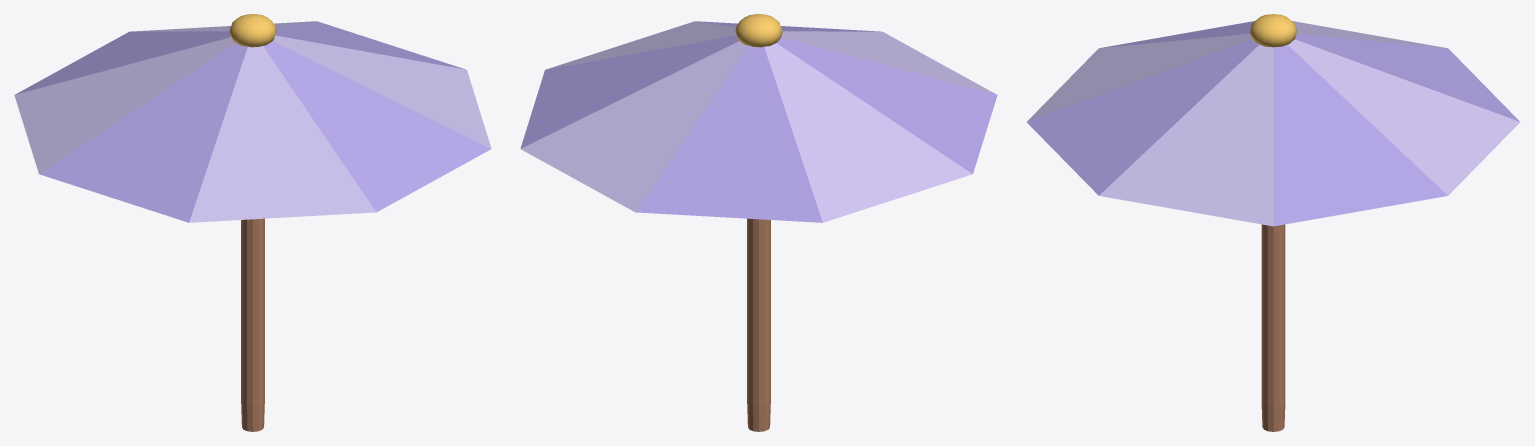
File: protect_umbrella.glb
The picture shows the model from 3 angles, left to right: view 1: azimuth 30°, elevation 25°; view 2: azimuth 150°, elevation 25°; view 3: azimuth 270°, elevation 25°; orthographic projection.
Visible parts, largest first — view 1: canopy, model; view 2: canopy, model; view 3: canopy, model.
Boxes of the visible parts, x1,y1,x2,y2 form: canopy: (14, 21, 491, 222); model: (229, 14, 276, 431); canopy: (520, 21, 997, 222); model: (735, 14, 782, 431); canopy: (1027, 21, 1519, 226); model: (1250, 14, 1296, 431).
Bounding box in the file's own units: 1.2 × 1.1 × 1.2.
